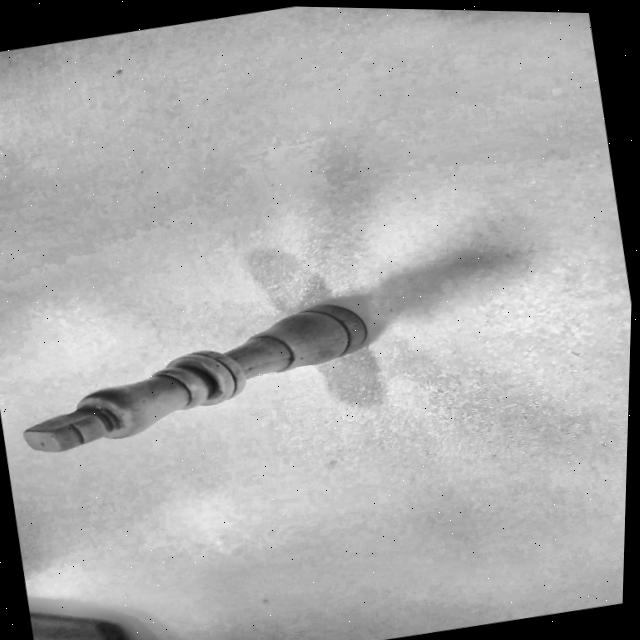white-king: (0, 287, 408, 472)
